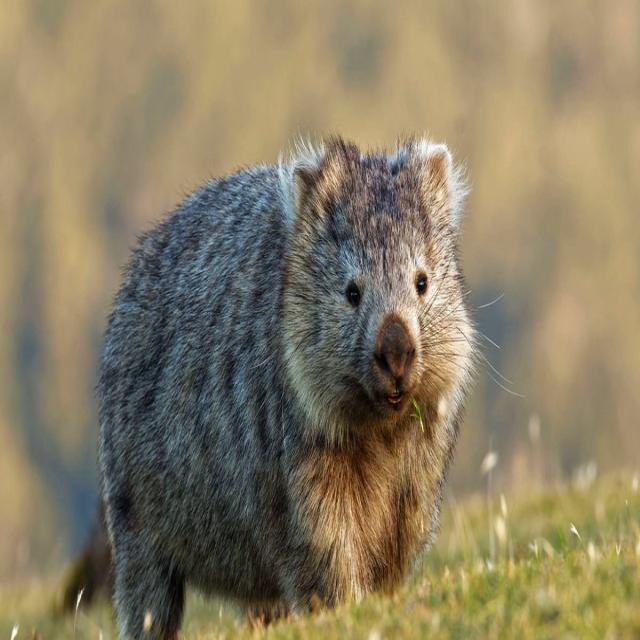wombats: (98, 137, 476, 639)
